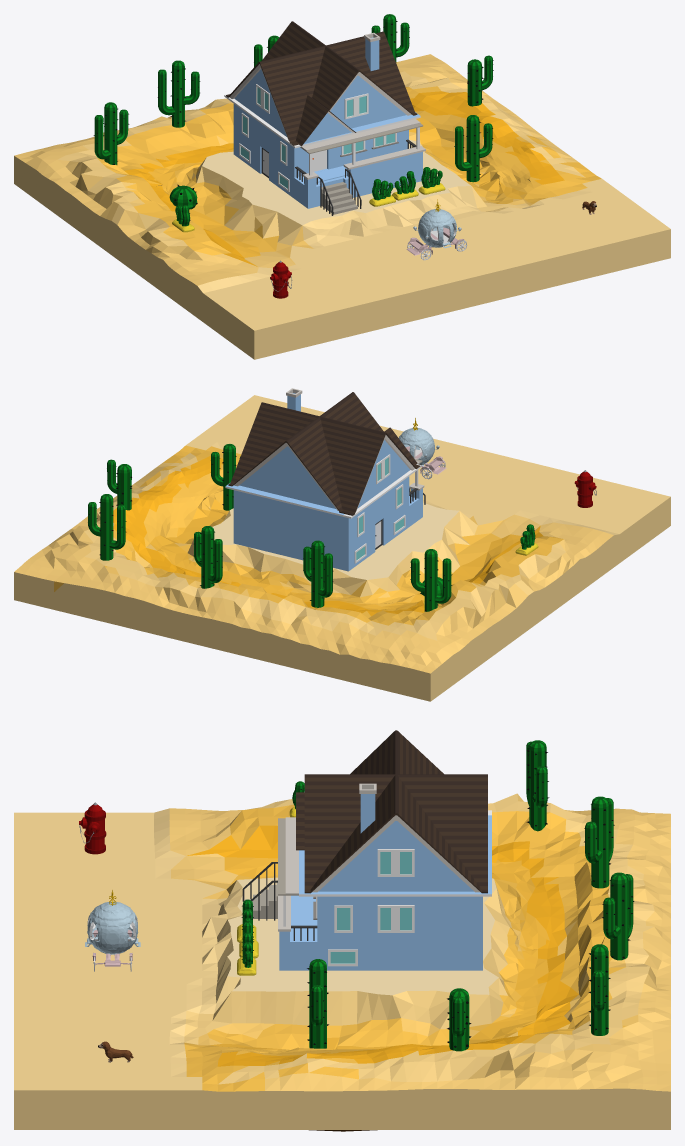
3 views of the same model, one above another, from view 1: azimuth 30°, elevation 25°; view 2: azimuth 150°, elevation 25°; view 3: azimuth 270°, elevation 25° (orthographic). The views are drawn at different scales.
Visible parts, largest first — view 1: Cube.001, Cube.1594, VEHICLES_FANTASY_CARRIAGE, Cylinder.037, Cylinder.044, Cylinder.045, Cylinder.038, Cylinder.042, OBJRANDOM_FIRE_HYDRANT, Cylinder.039, Cylinder.041, Sphere.023 (+1 smaller); view 2: Cube.001, Cube.1594, Cylinder.042, Cylinder.045, Cylinder.044, Cylinder.043, VEHICLES_FANTASY_CARRIAGE, Cylinder.037, Cylinder.038, OBJRANDOM_FIRE_HYDRANT; view 3: Cube.001, Cube.1594, VEHICLES_FANTASY_CARRIAGE, Cylinder.043, Cylinder.044, Cylinder.045, Cylinder.042, Cylinder.037, Cylinder.038, OBJRANDOM_FIRE_HYDRANT, Cylinder.041.
Boxes of the visible parts, <box> form: Cube.001: <box>14,54,670,359</box>; Cube.1594: <box>224,21,425,215</box>; VEHICLES_FANTASY_CARRIAGE: <box>406,199,467,260</box>; Cylinder.037: <box>454,115,493,182</box>; Cylinder.044: <box>157,60,200,127</box>; Cylinder.045: <box>93,102,129,164</box>; Cylinder.038: <box>467,55,493,106</box>; Cylinder.042: <box>371,14,409,62</box>; OBJRANDOM_FIRE_HYDRANT: <box>270,260,292,298</box>; Cylinder.039: <box>369,179,395,206</box>; Cylinder.041: <box>418,167,445,194</box>; Sphere.023: <box>169,184,197,209</box>; Cube.001: <box>14,395,670,701</box>; Cube.1594: <box>225,388,425,571</box>; Cylinder.042: <box>88,494,126,560</box>; Cylinder.045: <box>410,549,452,611</box>; Cylinder.044: <box>303,540,333,607</box>; Cylinder.043: <box>193,526,222,588</box>; VEHICLES_FANTASY_CARRIAGE: <box>398,418,446,479</box>; Cylinder.037: <box>211,444,240,510</box>; Cylinder.038: <box>107,459,131,510</box>; OBJRANDOM_FIRE_HYDRANT: <box>574,470,596,507</box>; Cube.001: <box>14,793,670,1129</box>; Cube.1594: <box>242,730,491,970</box>; VEHICLES_FANTASY_CARRIAGE: <box>85,890,140,971</box>; Cylinder.043: <box>602,872,634,960</box>; Cylinder.044: <box>584,796,614,888</box>; Cylinder.045: <box>526,740,549,831</box>; Cylinder.042: <box>588,944,610,1035</box>; Cylinder.037: <box>307,959,328,1048</box>; Cylinder.038: <box>447,988,471,1051</box>; OBJRANDOM_FIRE_HYDRANT: <box>79,802,106,854</box>; Cylinder.041: <box>237,932,256,975</box>.
Bounding box in the file's own units: 4002 × 1693 × 4001.
31 materials, 2 textured.
